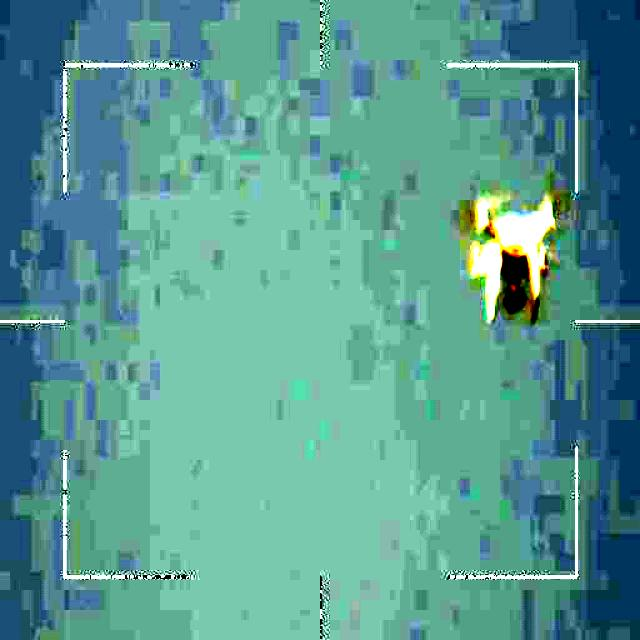bird: (454, 194, 566, 328)
